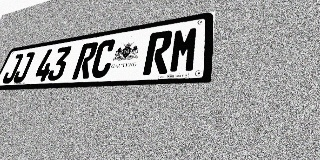3: (46, 46, 72, 81)
4: (32, 48, 58, 82)
C: (89, 39, 117, 78)
J: (11, 52, 36, 83), (1, 53, 24, 84)
M: (168, 25, 200, 74)
R: (142, 30, 173, 75), (71, 41, 99, 80)
